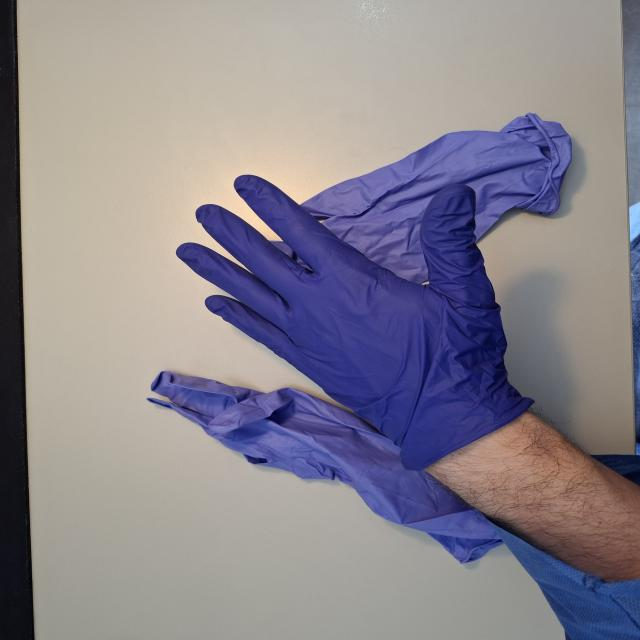glove_on: (174, 172, 526, 466)
